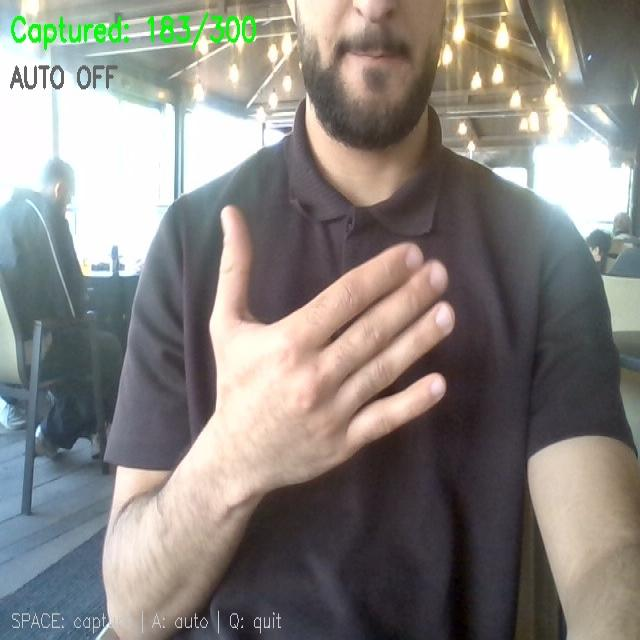Hand: (210, 207, 453, 493)
